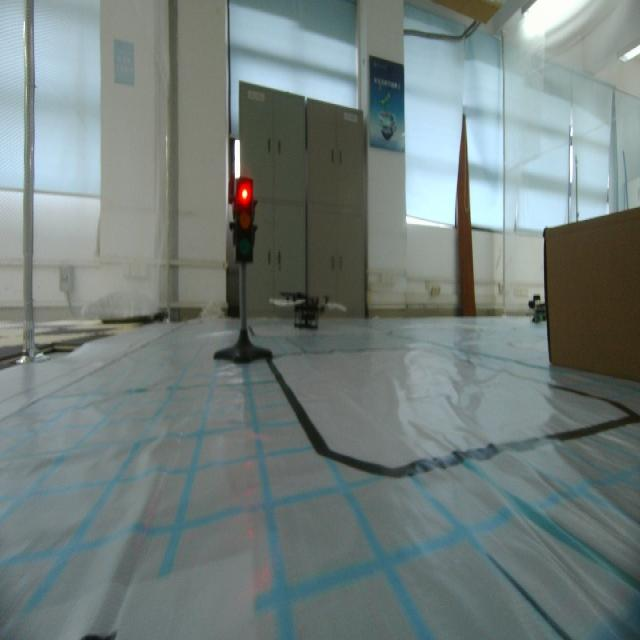red: (231, 174, 257, 270)
